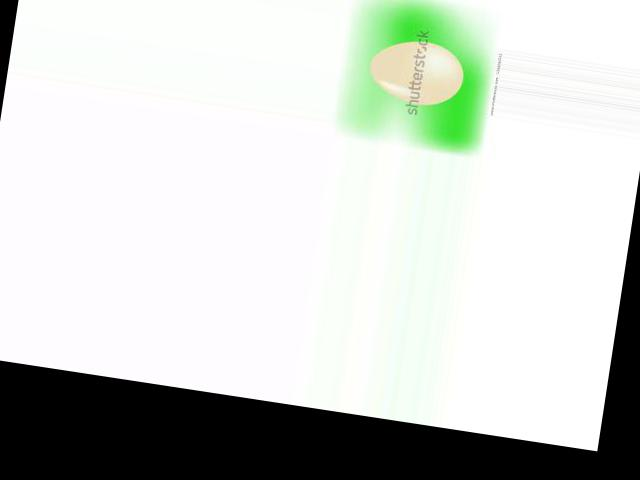egg: (365, 33, 467, 110)
